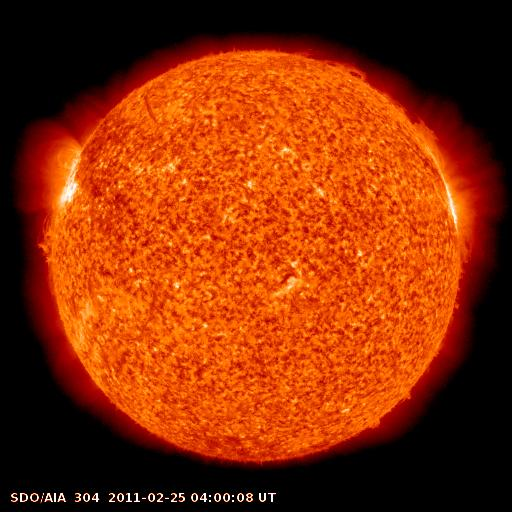prominence: (384, 89, 448, 158), (20, 214, 73, 276), (311, 49, 380, 92)
